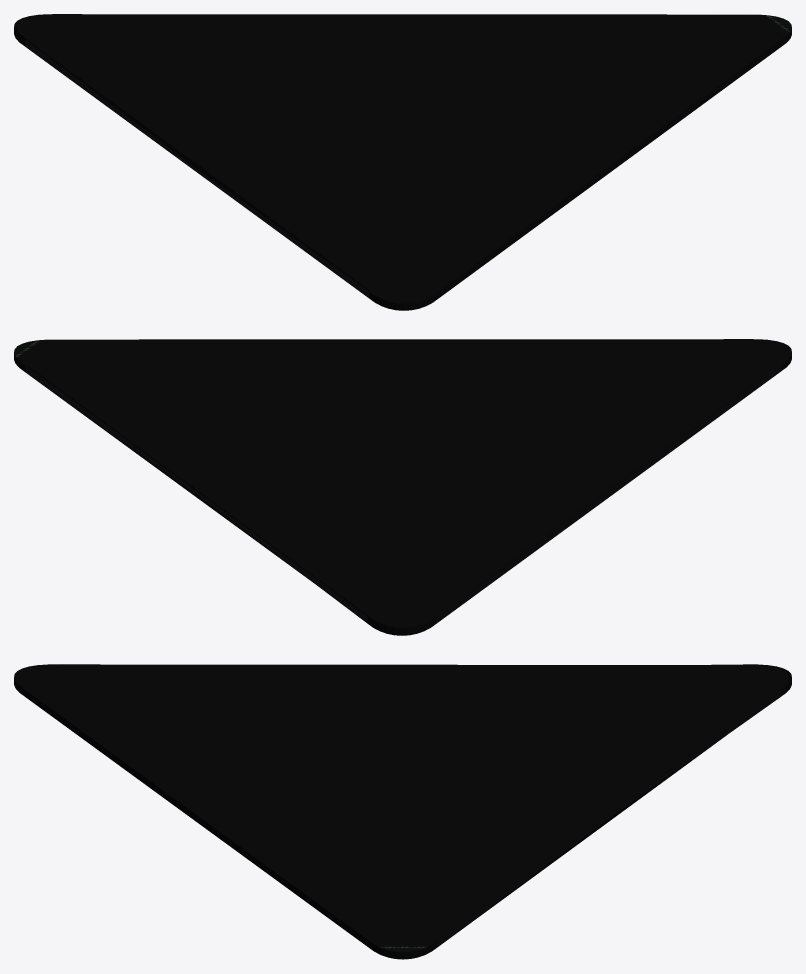
3 views of the same model, one above another, from view 1: azimuth 30°, elevation 25°; view 2: azimuth 150°, elevation 25°; view 3: azimuth 270°, elevation 25° (orthographic).
Parts seen in each view (by area): view 1: Cube.003; view 2: Cube.003; view 3: Cube.003.
Part boxes in pixels (x1,y1,x2,y2): Cube.003: [14, 14, 791, 310]; Cube.003: [14, 339, 791, 635]; Cube.003: [14, 664, 791, 959].
Size of the model in its own units: 0.0743 by 0.000864 by 0.0849.
1 material, 1 textured.
